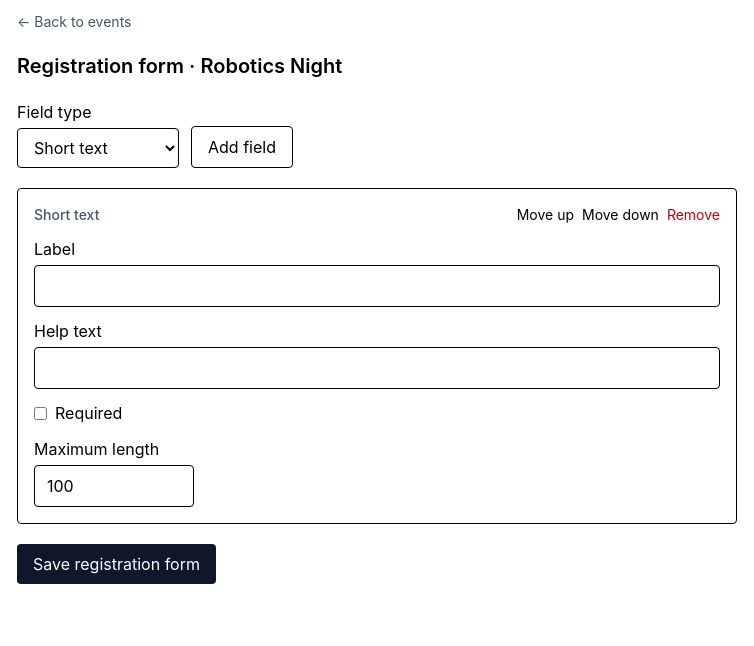
Test case: OfficerRegistrationFormPage › refuses a blank label before sending it
This screenshot has width=754, height=646.
What coordinates should you click on to do the following:
click the button "Save registration form"
I would click on:
 (116, 564)
Its box is [17,544,216,584].
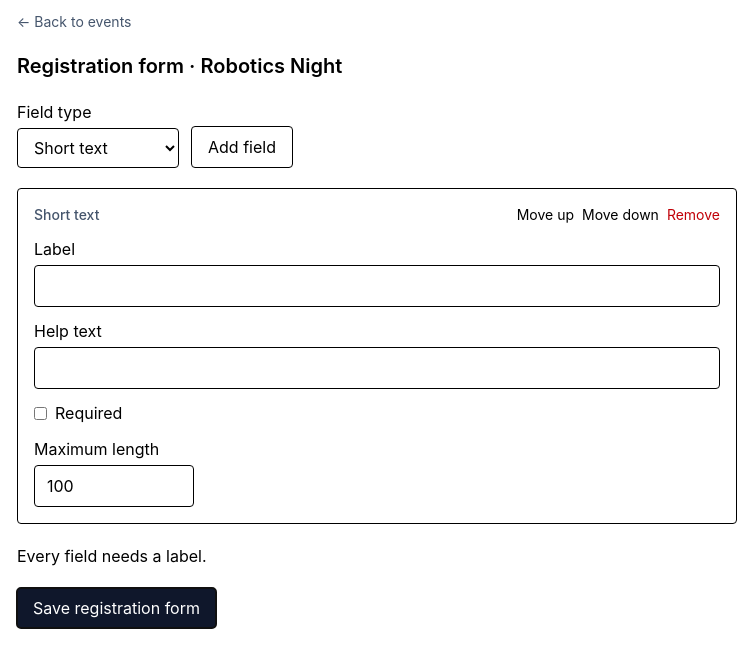
Expected: the message reads "Every field needs a label.", [17,546,206,566]
